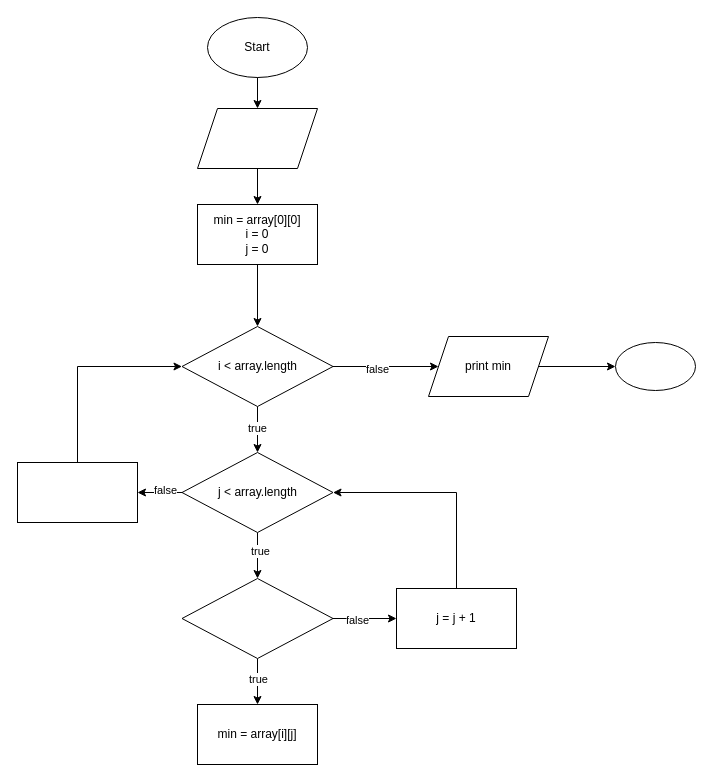
The diagram is 713 pixels wide and 782 high, and some of its shapes have lost their labels. Here are the shapes that lost their labels. From the top down, the centre of each, then its label:
point (257, 138): array
point (655, 366): End
point (77, 492): i = i + 1
point (257, 618): array[i][j] < min
